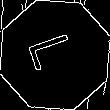L_E: (26, 32, 84, 78)
